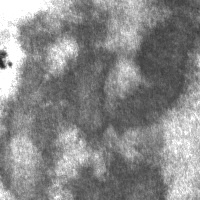patches: (20, 1, 111, 144), (114, 1, 199, 140), (71, 149, 172, 199)
